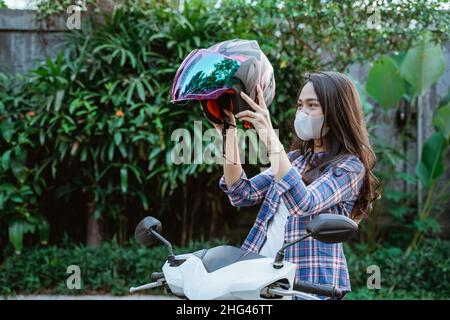helmets: (159, 29, 281, 143)
